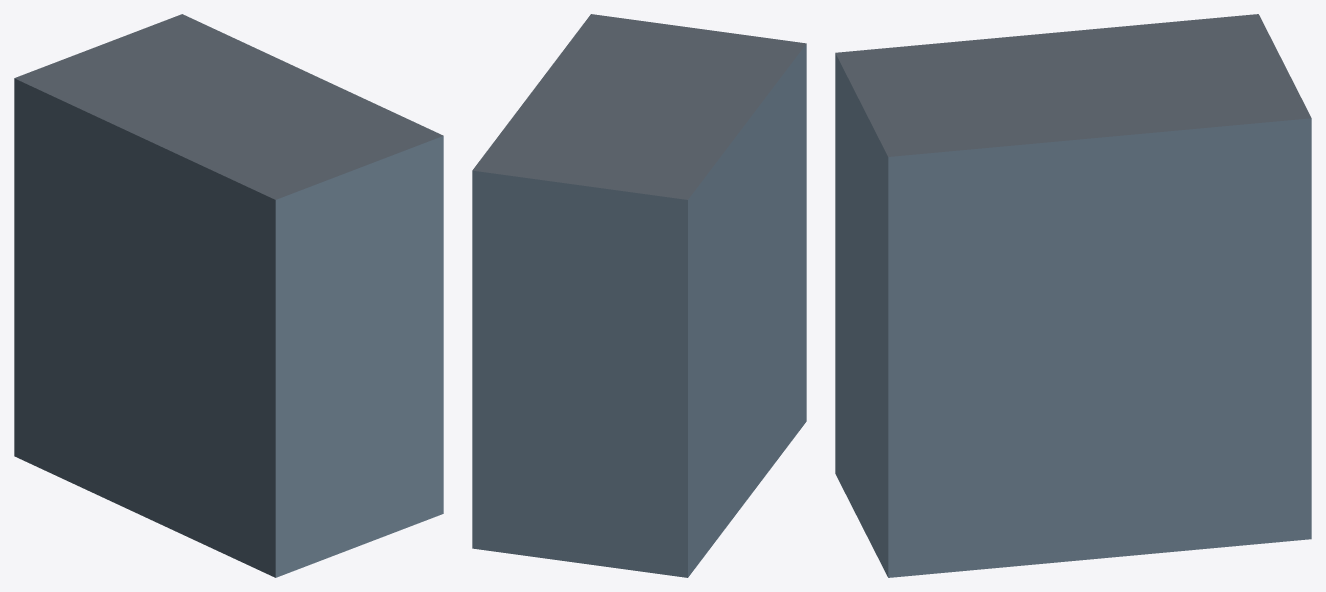
3 renders of one model, left to right at view 1: azimuth 30°, elevation 25°; view 2: azimuth 150°, elevation 25°; view 3: azimuth 270°, elevation 25°, orthographic. The views are drawn at different scales.
Visible parts, largest first — view 1: HP-w380339899; view 2: HP-w380339899; view 3: HP-w380339899.
Boxes of the visible parts, <box> form: HP-w380339899: <box>14,14,443,577</box>; HP-w380339899: <box>472,14,806,577</box>; HP-w380339899: <box>835,14,1311,577</box>.
Bounding box in the file's own units: 27.7 × 38 × 38.98.
